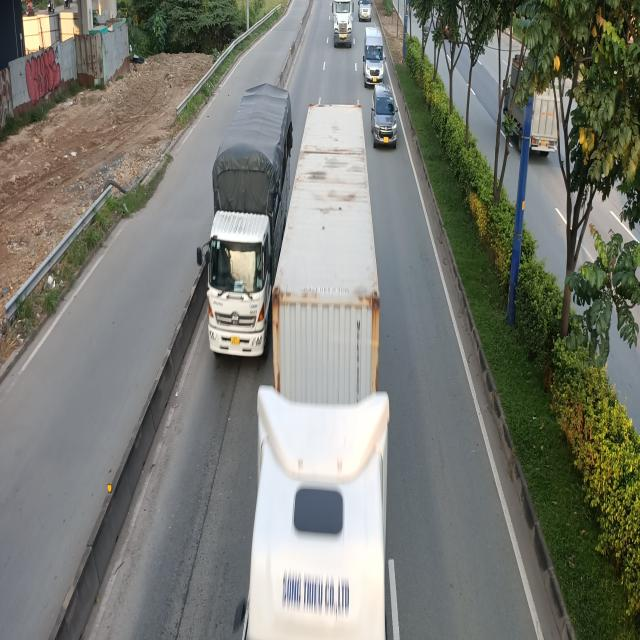car: (372, 84, 400, 147)
container: (228, 108, 395, 636), (332, 0, 356, 46)
truck: (198, 89, 294, 367)
van: (362, 23, 384, 84)
